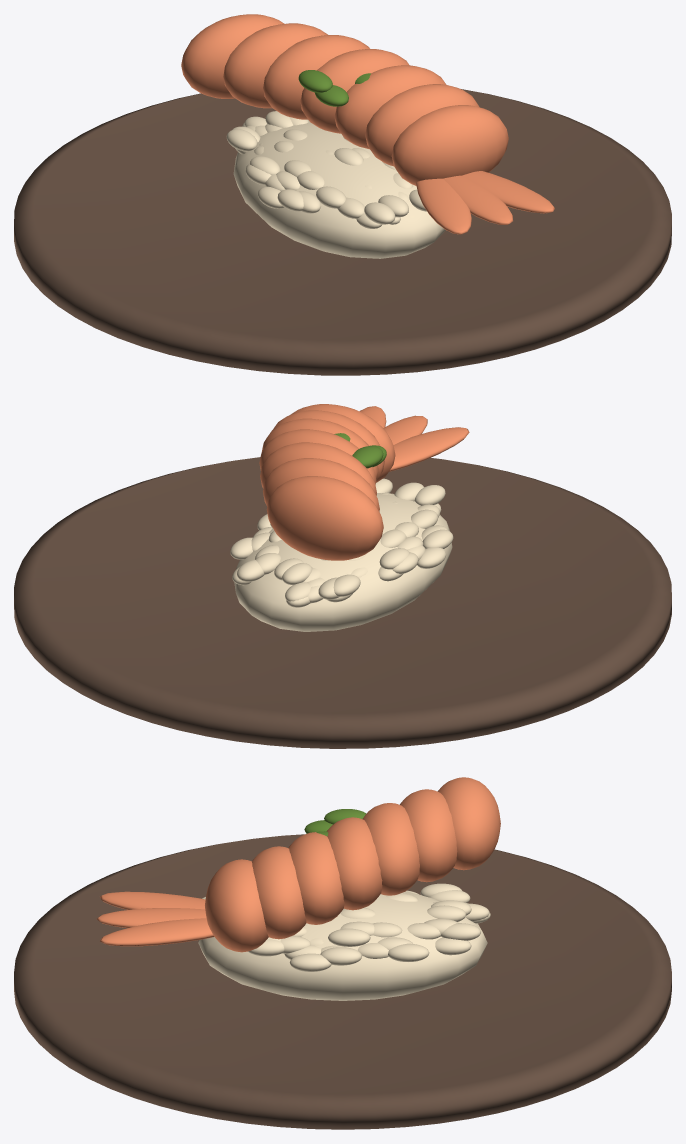
Rendered from 47-shrimp-sushi.glb.
The picture shows the model from 3 angles, top to bottom: view 1: azimuth 30°, elevation 25°; view 2: azimuth 150°, elevation 25°; view 3: azimuth 270°, elevation 25°; orthographic projection.
Visible parts, largest first — view 1: 붉은새우 초밥; view 2: 붉은새우 초밥; view 3: 붉은새우 초밥.
Part boxes in pixels (box(x1,y1,x2,y2)): 붉은새우 초밥: box(14, 14, 671, 375); 붉은새우 초밥: box(14, 404, 671, 748); 붉은새우 초밥: box(14, 777, 671, 1129).
Bounding box in the file's own units: 2 × 0.6775 × 2.
